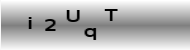2: (42, 17, 57, 32)
T: (103, 7, 120, 23)
U: (66, 9, 82, 23)
i: (25, 16, 33, 30)
q: (82, 27, 98, 40)
